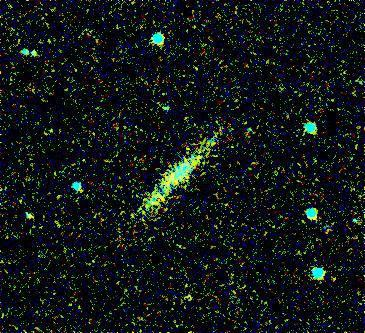star: (318, 261, 348, 291)
